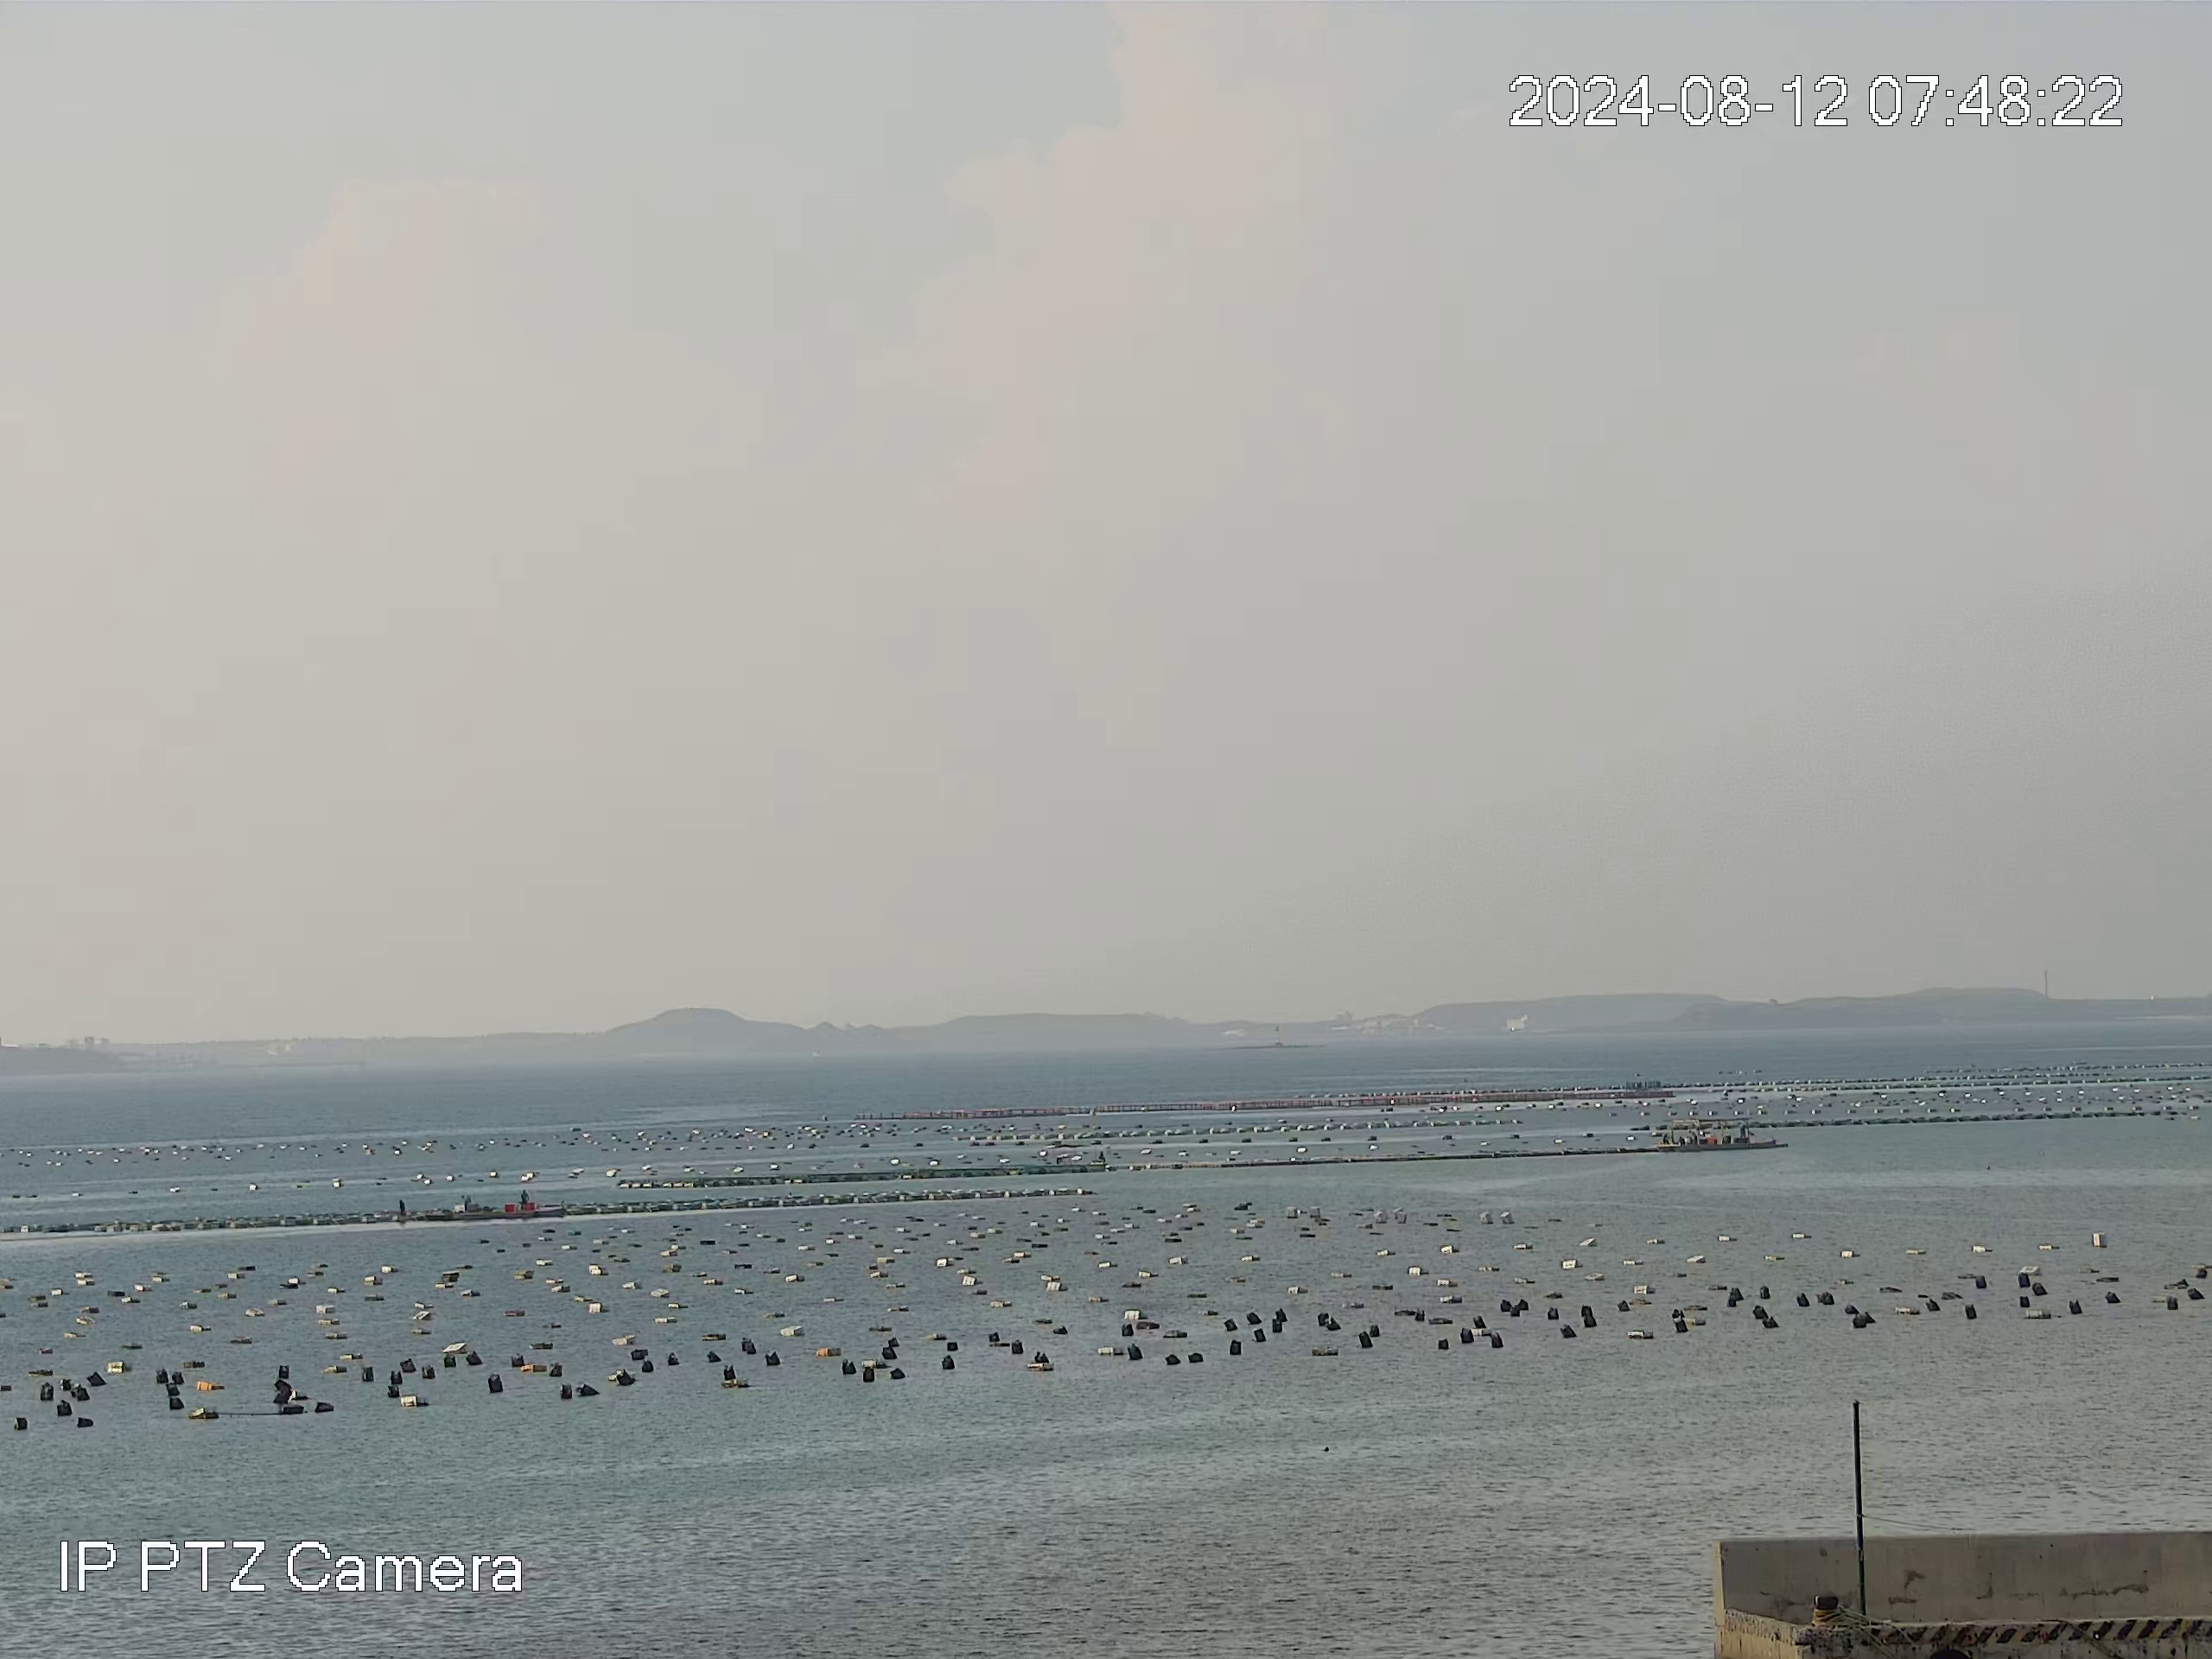boat: (397, 1192, 566, 1222), (1655, 1119, 1780, 1150)
